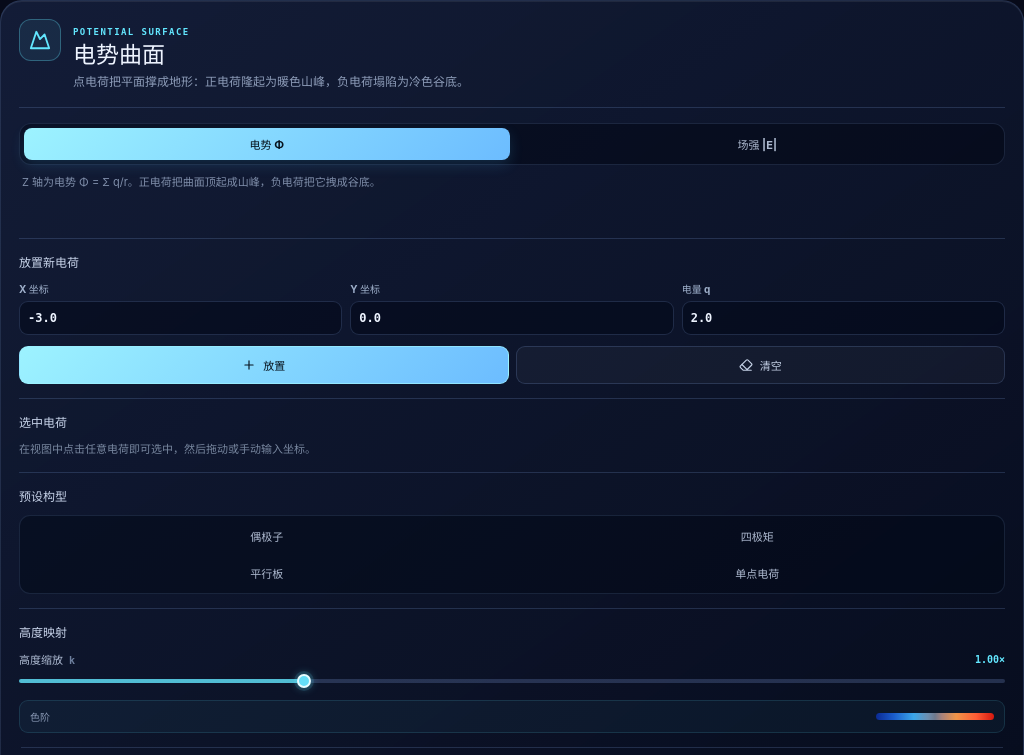
it: PotentialFieldLab › edits the selected charge through the coordinate fields
Step 1. Click the button "放置" → click(264, 365), box top-left (19, 346), bottom-right (508, 384)
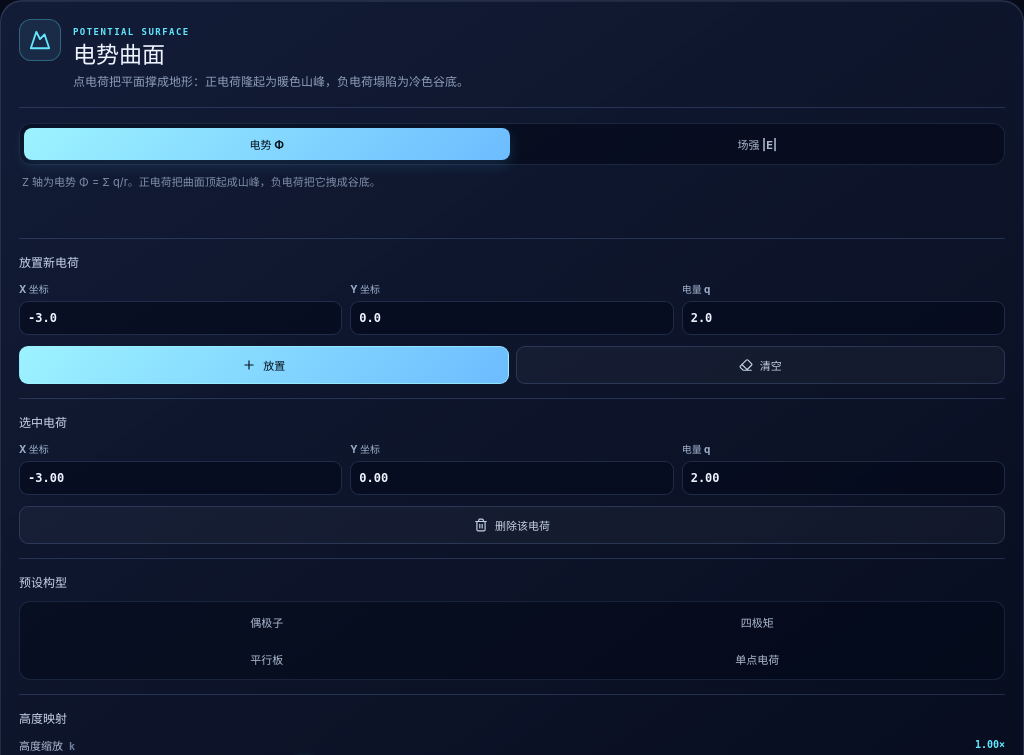
Step 2. Replace the text in the 2nd number field labelled "Y 坐标" with "4.25" → (512, 478), box top-left (350, 461), bottom-right (674, 495)
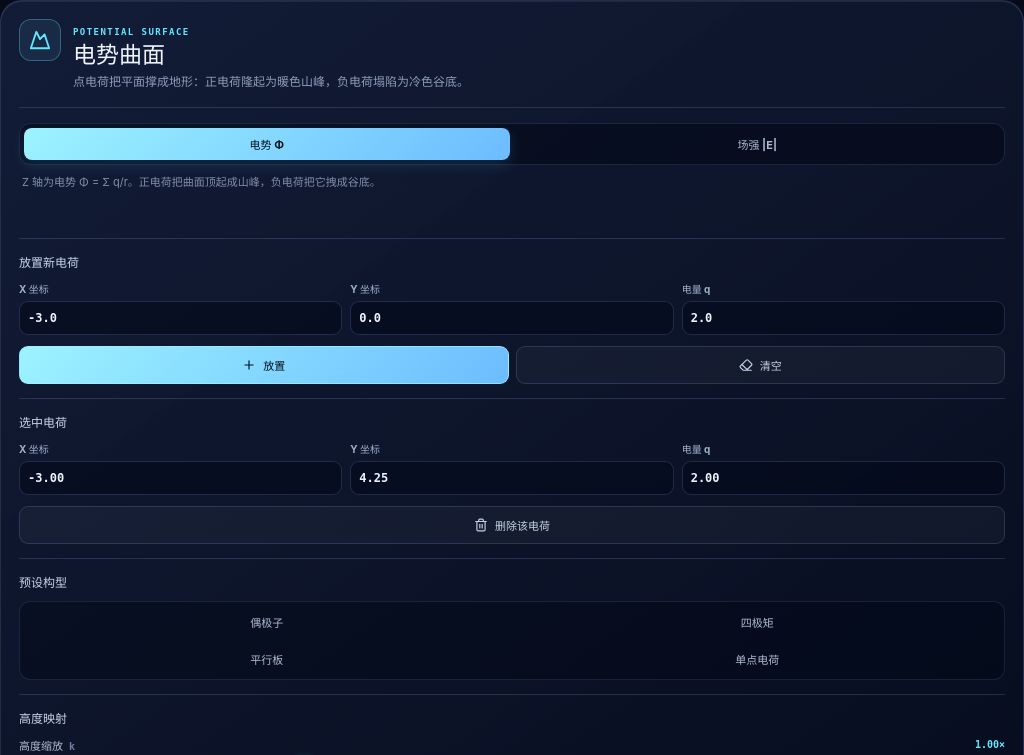
Step 3. Click the button "删除该电荷" → click(512, 525), box top-left (19, 506), bottom-right (1005, 544)
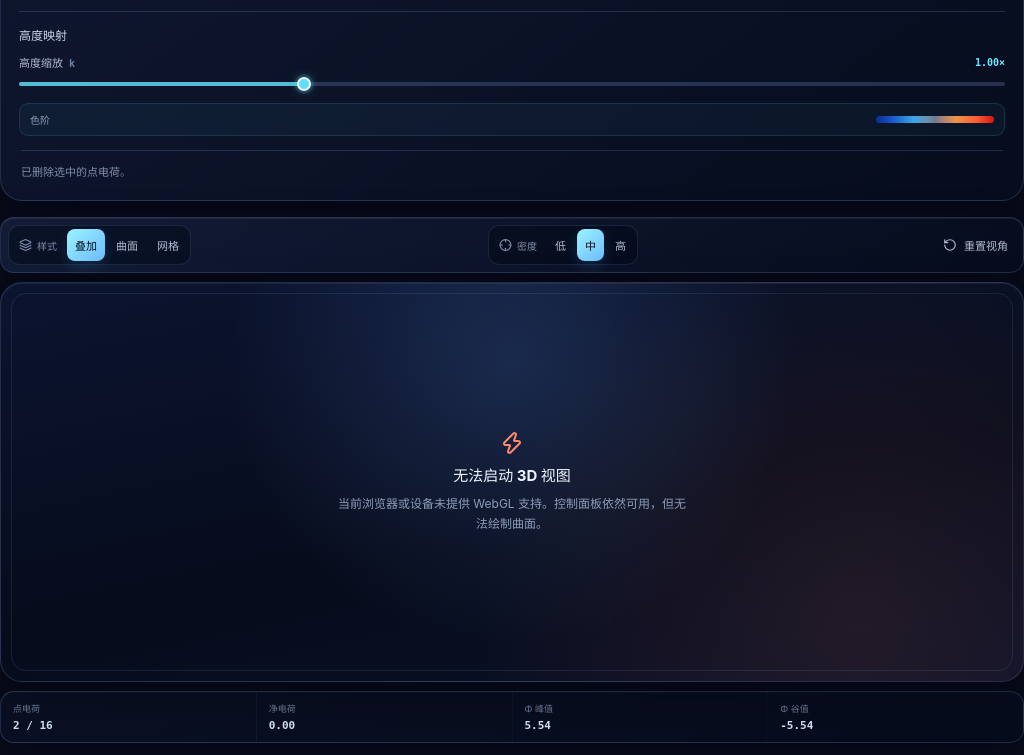
Check: the text "2 / 16" is shown, box top-left (13, 719), bottom-right (53, 732)
